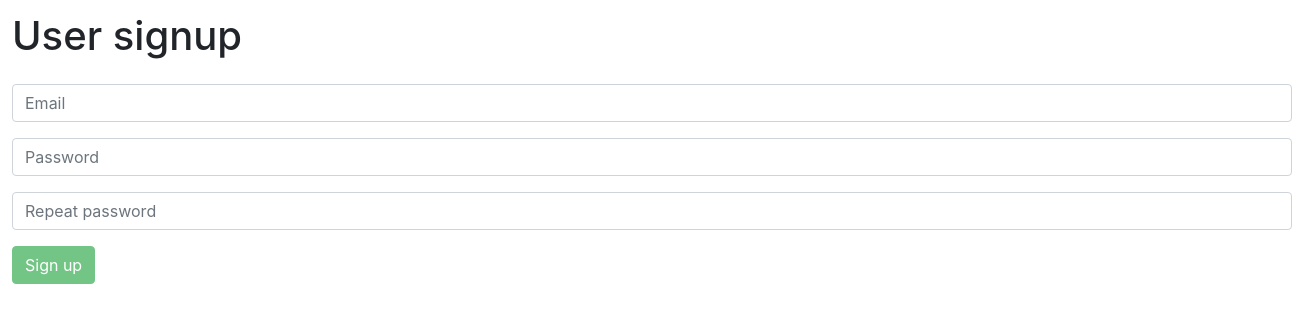
Test: Signup › should fail validation when email is empty
The image size is (1304, 328).
Type "password" into the password field with placeholder "Password".
click(652, 157); type("password")  # box top-left (12, 138), bottom-right (1292, 176)
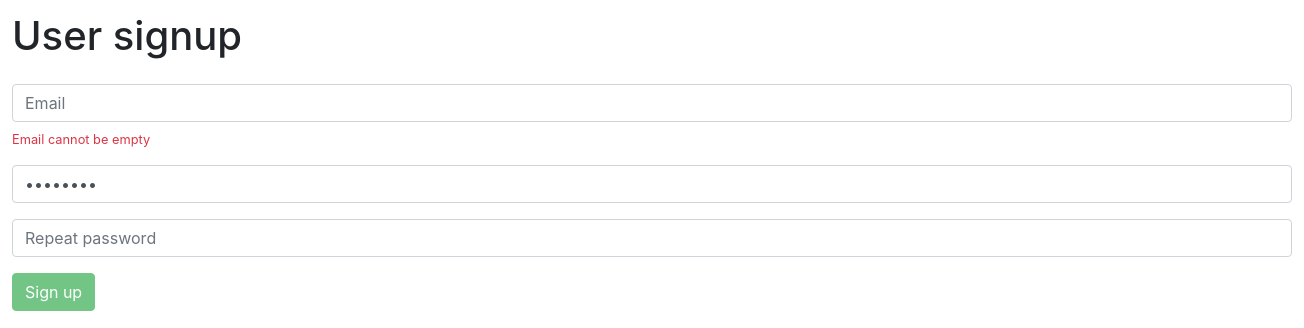
Expected: the button "Sign up" is disabled, top-left (12, 273), bottom-right (95, 311)
Expected: the text "Email cannot be empty" is shown, top-left (12, 132), bottom-right (150, 147)
